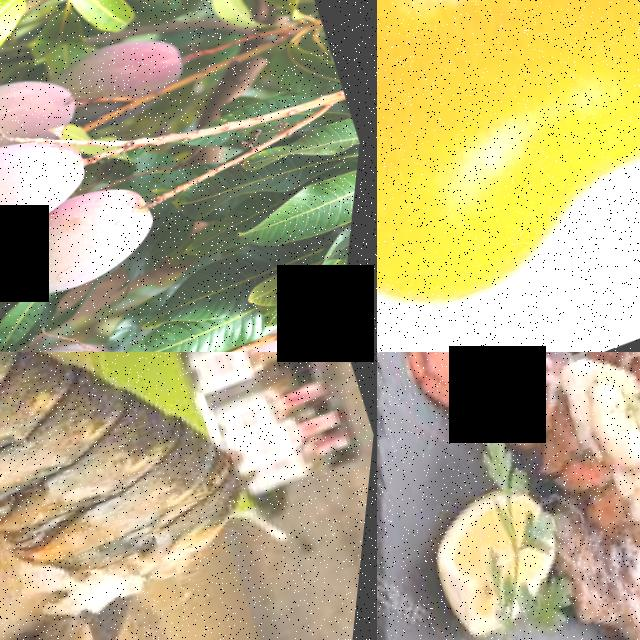lobster tails: (0, 352, 250, 640), (377, 352, 614, 495)
mango: (377, 0, 640, 352), (0, 171, 177, 323), (0, 113, 108, 259), (69, 15, 201, 114), (0, 55, 88, 160), (182, 323, 323, 352), (0, 322, 126, 352)
